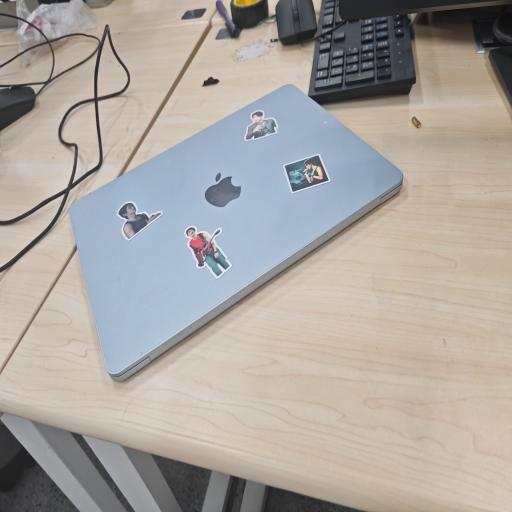laptop: (70, 86, 402, 380)
mouse: (275, 0, 316, 44), (0, 86, 36, 130)
